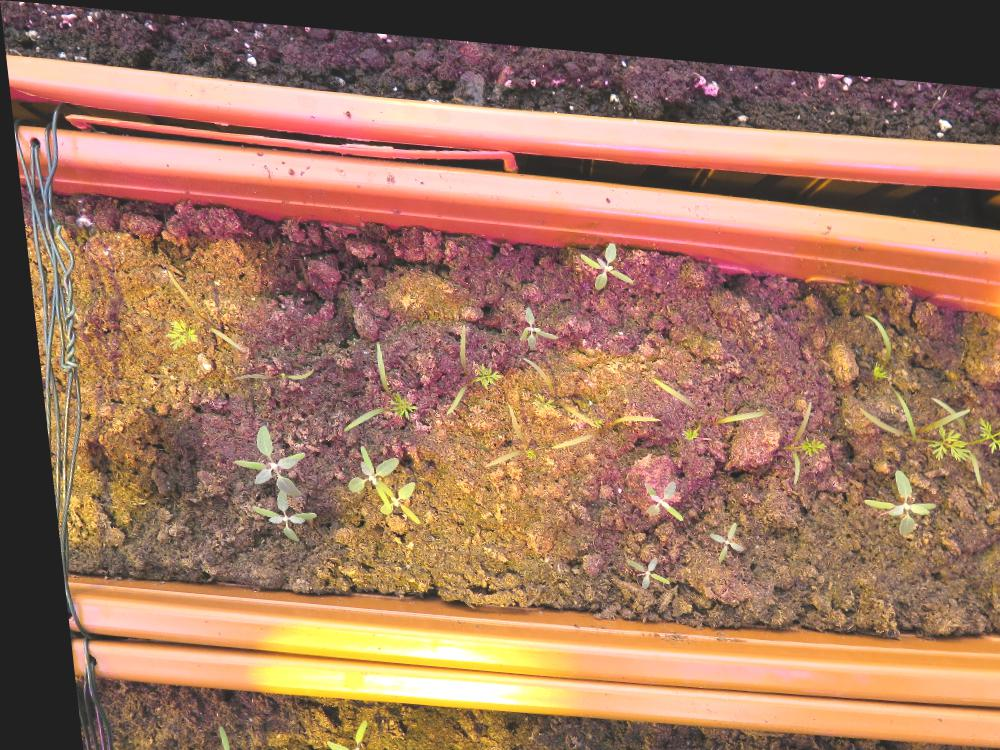weed: (849, 448, 930, 523), (571, 226, 632, 281), (303, 705, 372, 749), (507, 295, 554, 342), (694, 504, 733, 552), (630, 465, 672, 509), (612, 541, 658, 580)
